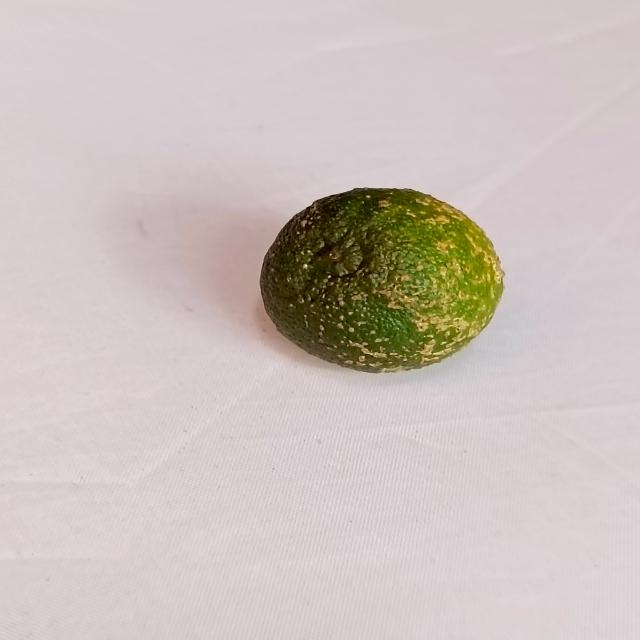scab: (258, 186, 506, 373)
